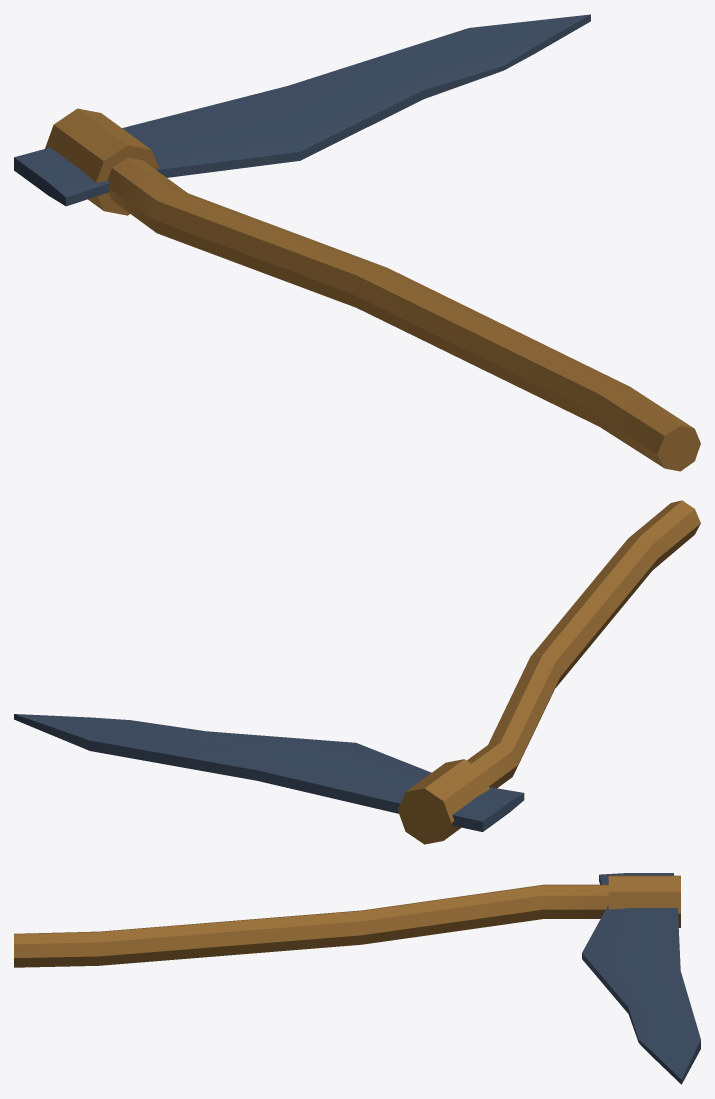
File: Sycth.fbx
The picture shows the model from 3 angles, top to bottom: view 1: azimuth 30°, elevation 25°; view 2: azimuth 150°, elevation 25°; view 3: azimuth 270°, elevation 25°; orthographic projection. The views are drawn at different scales.
Visible parts, largest first — view 1: pCylinder12, pCube54; view 2: pCube54, pCylinder12; view 3: pCylinder12, pCube54.
Boxes of the visible parts, x1,y1,x2,y2 form: pCylinder12: (45,108,700,471); pCube54: (14,14,590,206); pCube54: (14,714,524,831); pCylinder12: (398,500,700,844); pCylinder12: (14,875,680,967); pCube54: (582,873,700,1084).
Size of the model in its own units: 2.3 by 0.2653 by 3.26.
